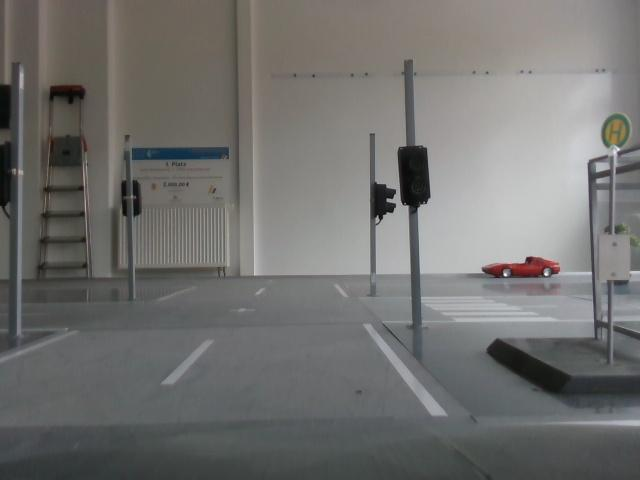car: (484, 250, 561, 285)
traffic light: (397, 138, 440, 208), (367, 180, 397, 227), (116, 179, 146, 216)
